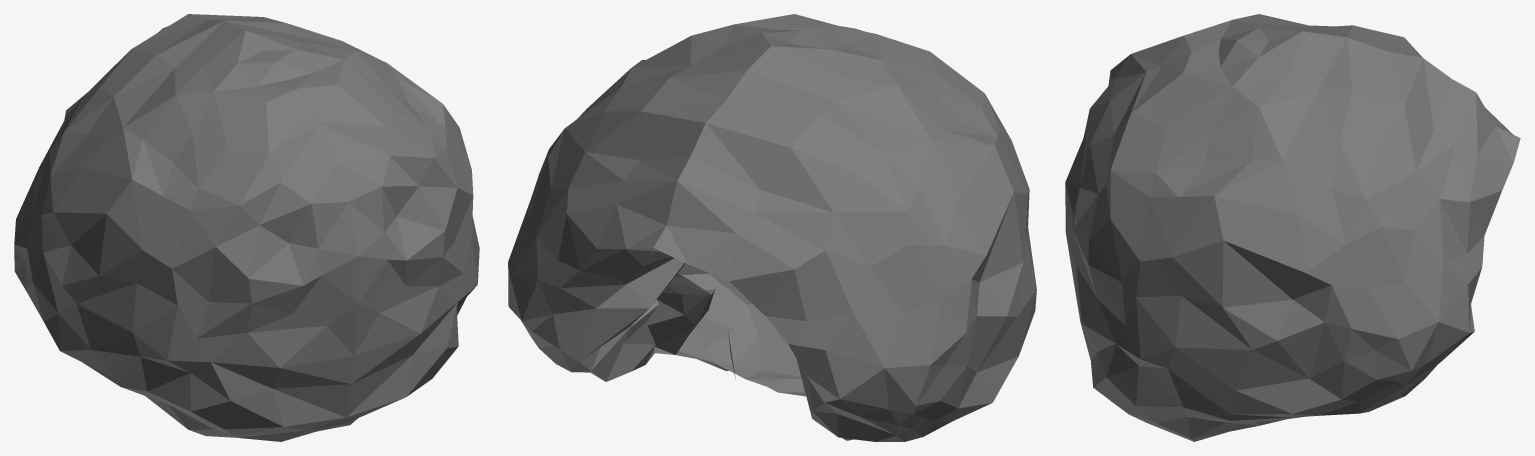
Rendered from StoreClercHair.glb.
The picture shows the model from 3 angles, left to right: view 1: azimuth 30°, elevation 25°; view 2: azimuth 150°, elevation 25°; view 3: azimuth 270°, elevation 25°; orthographic projection. The views are drawn at different scales.
Parts seen in each view (by area): view 1: StoreClercHair; view 2: StoreClercHair; view 3: StoreClercHair.
Boxes of the visible parts, box(x1,y1,x2,y2) form: StoreClercHair: box(14, 14, 479, 441); StoreClercHair: box(508, 14, 1036, 441); StoreClercHair: box(1065, 14, 1520, 441).
Size of the model in its own units: 0.2652 by 0.2297 by 0.2538.
1 material, 1 textured.
